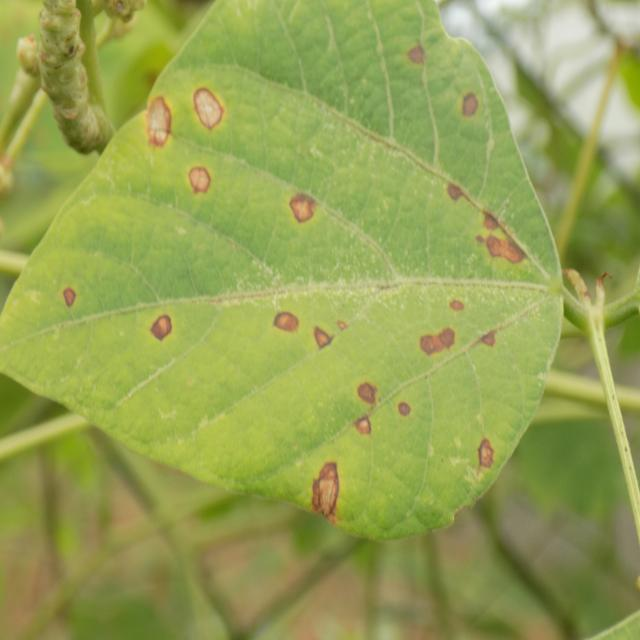Dolicos bean_cercospora leaf spot: (0, 0, 567, 535)
